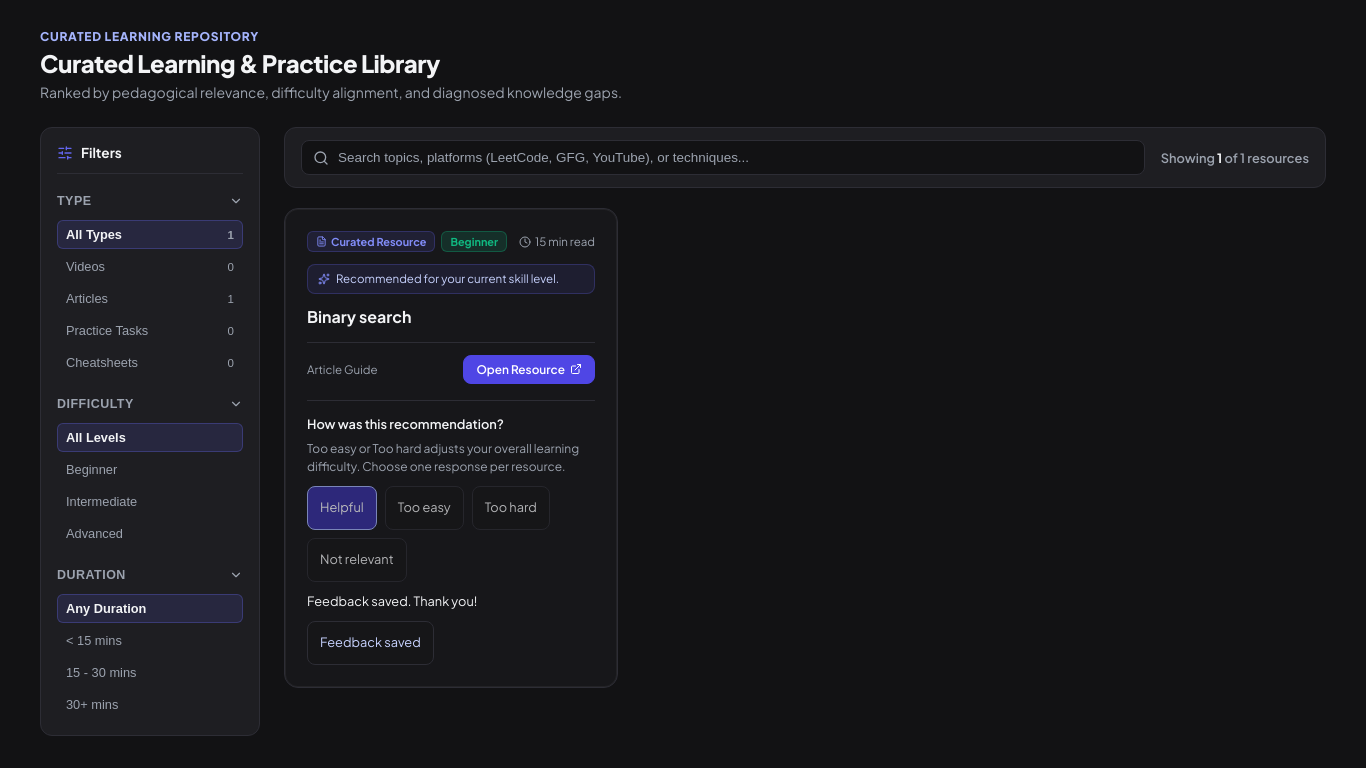
Scenario: Recommendation feedback provenance › filters hide and restore a saved feedback state
Replace the text in the field with placeholder "Search" with "no match": (723, 158) x1=301 y1=140 x2=1145 y2=175
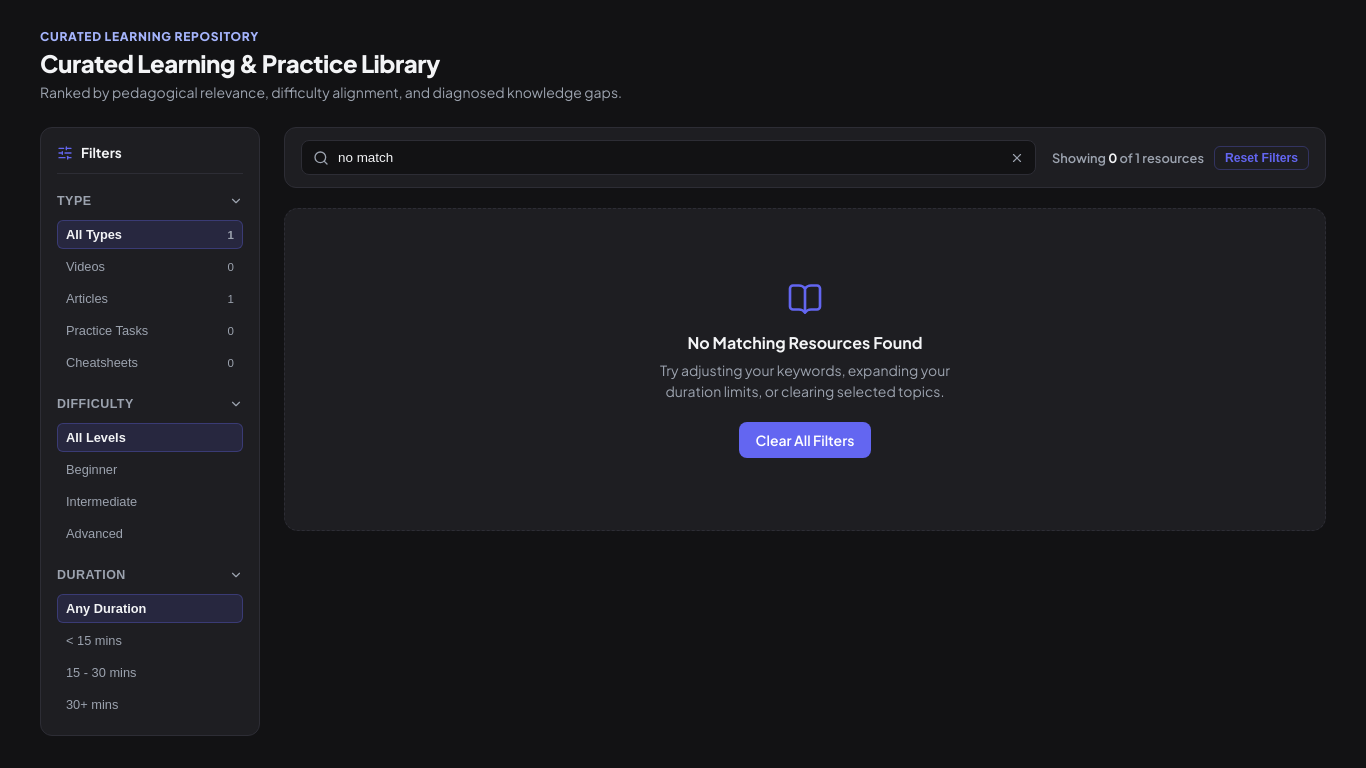
Result: the button "Helpful" is gone
Clear the field with placeholder "Search": (668, 158) x1=301 y1=140 x2=1036 y2=175
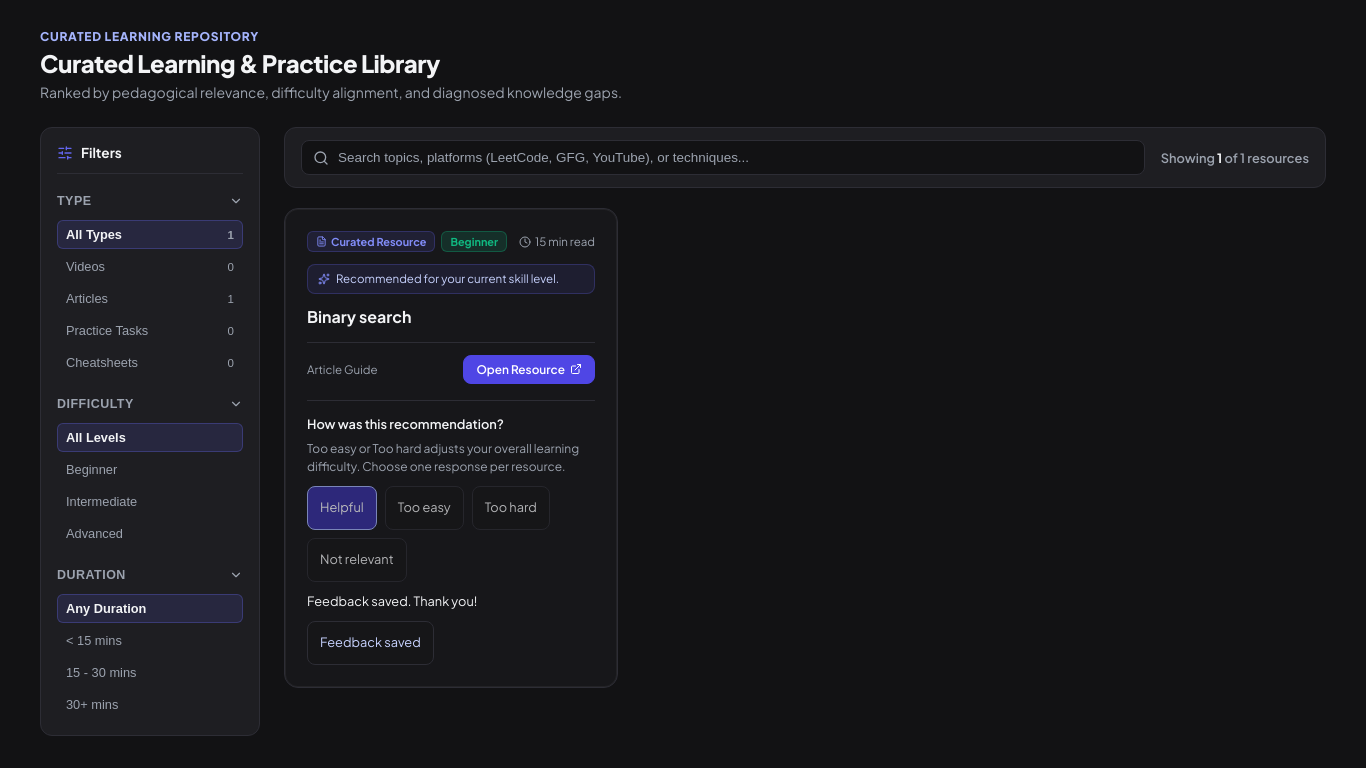
Result: the button "Helpful" is disabled at x1=307 y1=486 x2=377 y2=530
